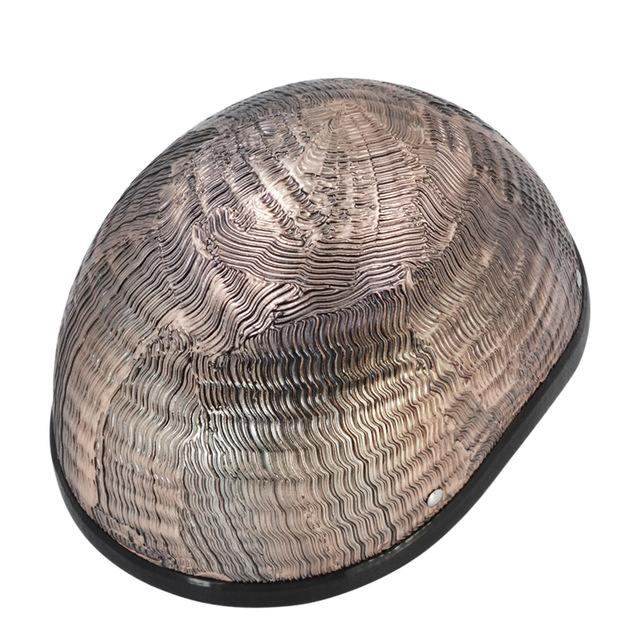with_helmet: (30, 69, 592, 610)
